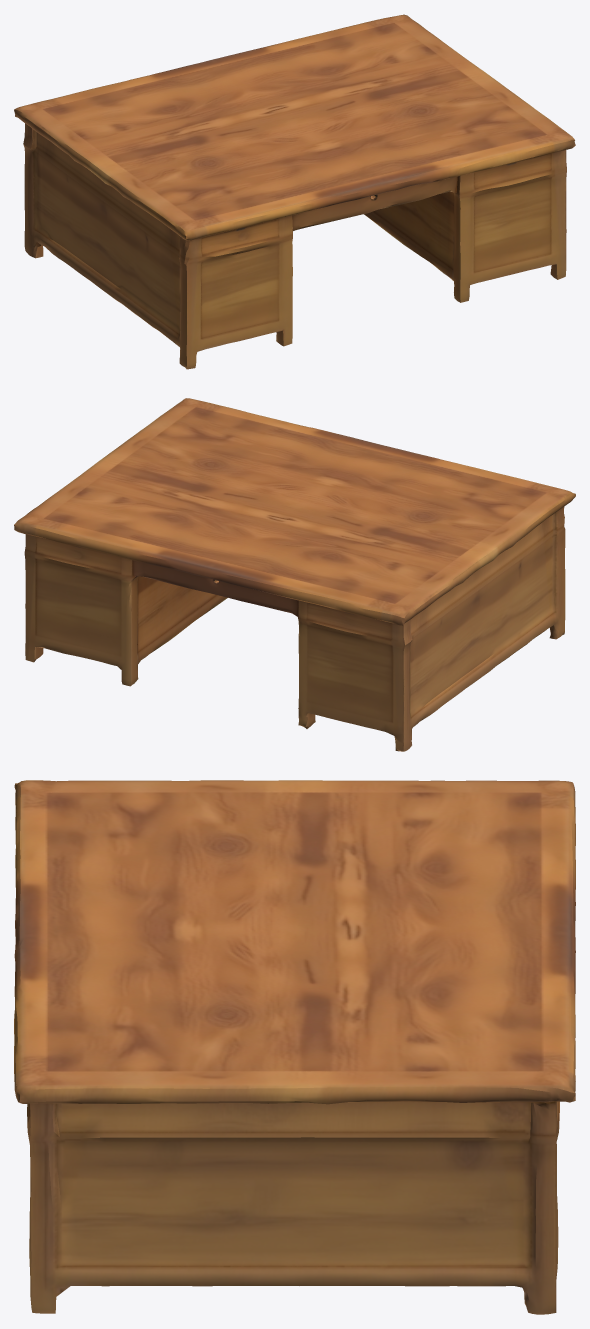
File: berlin_desk.fbx
3 renders of one model, top to bottom at view 1: azimuth 30°, elevation 25°; view 2: azimuth 150°, elevation 25°; view 3: azimuth 270°, elevation 25°, orthographic. The views are drawn at different scales.
Parts seen in each view (by area): view 1: Mesh0; view 2: Mesh0; view 3: Mesh0.
Part boxes in pixels (box(x1,y1,x2,y2)): Mesh0: box(14, 14, 575, 369); Mesh0: box(14, 398, 575, 751); Mesh0: box(14, 780, 575, 1314).
Bounding box in the file's own units: 191 × 67.21 × 147.
1 material, 1 textured.
